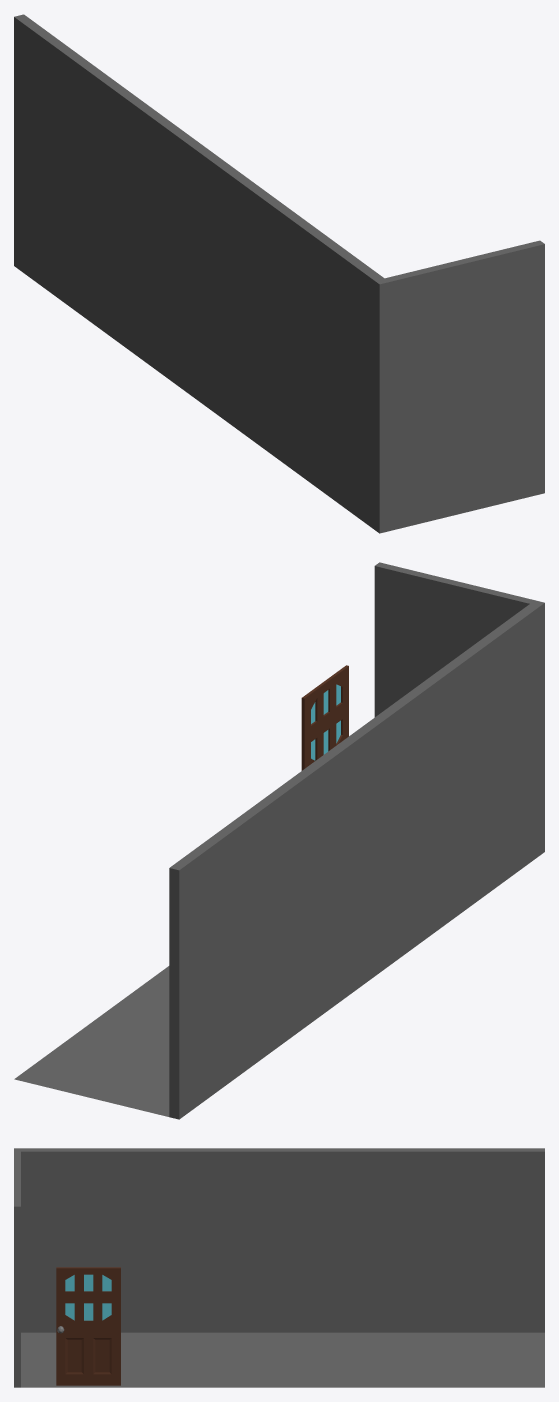
File: Hallway2.fbx
3 views of the same model, one above another, from view 1: azimuth 30°, elevation 25°; view 2: azimuth 150°, elevation 25°; view 3: azimuth 270°, elevation 25° (orthographic). The views are drawn at different scales.
Parts seen in each view (by area): view 1: Hallway 2; view 2: Hallway 2, Door.003; view 3: Hallway 2, Door.003, Door.004.
Part boxes in pixels (x1=…): Hallway 2: x1=14, y1=14, x2=544, y2=533; Hallway 2: x1=14, y1=562, x2=544, y2=1119; Door.003: x1=301, y1=665, x2=348, y2=770; Hallway 2: x1=14, y1=1148, x2=544, y2=1387; Door.003: x1=56, y1=1267, x2=120, y2=1385; Door.004: x1=65, y1=1274, x2=111, y2=1320.
Size of the model in its own units: 278 by 370 by 985.
